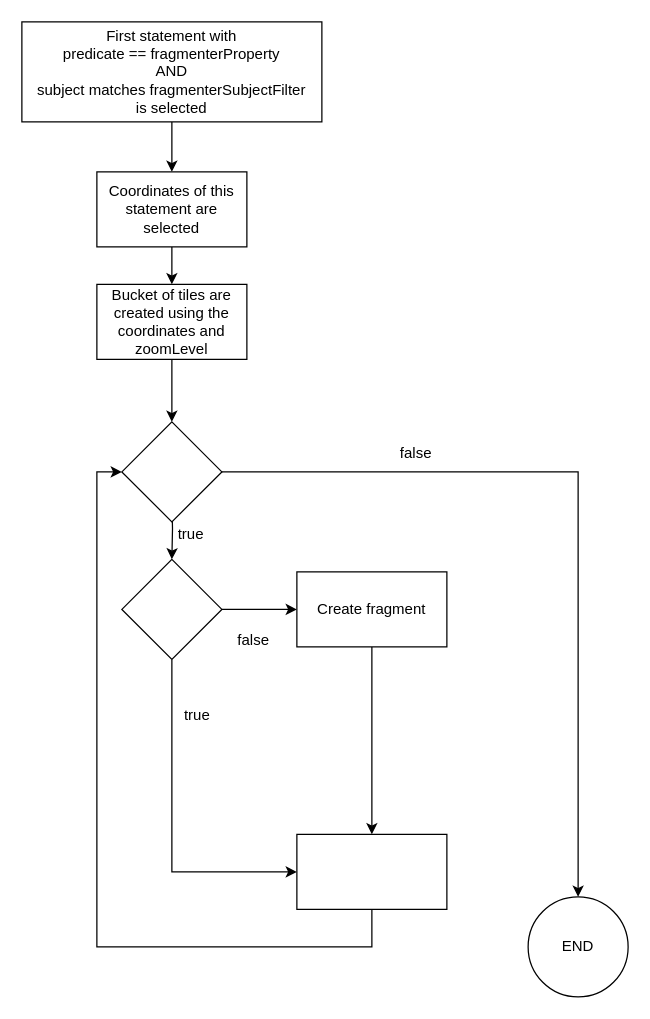
This 650x1019 diagram has some shape labels left out. The box of each missing label's shape, as (x1, y1, x2, y2) in pixels:
Add member to fragment: (296, 833, 447, 909)
Fragment for tile exists?: (121, 558, 222, 659)
Next tile?: (121, 421, 222, 522)
